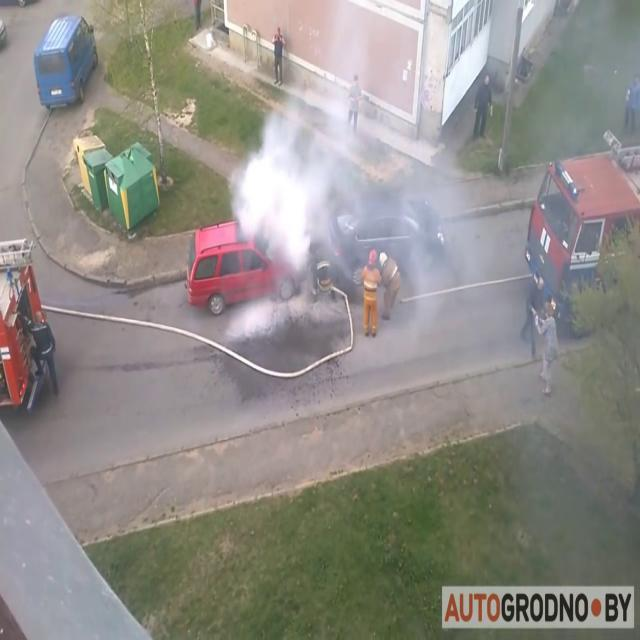Smoke: (230, 8, 504, 290)
